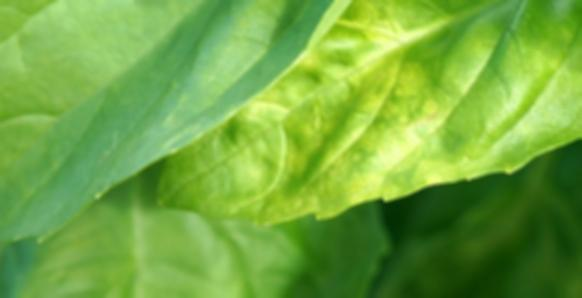Tomato leaf: (154, 0, 582, 223), (0, 0, 356, 246)
